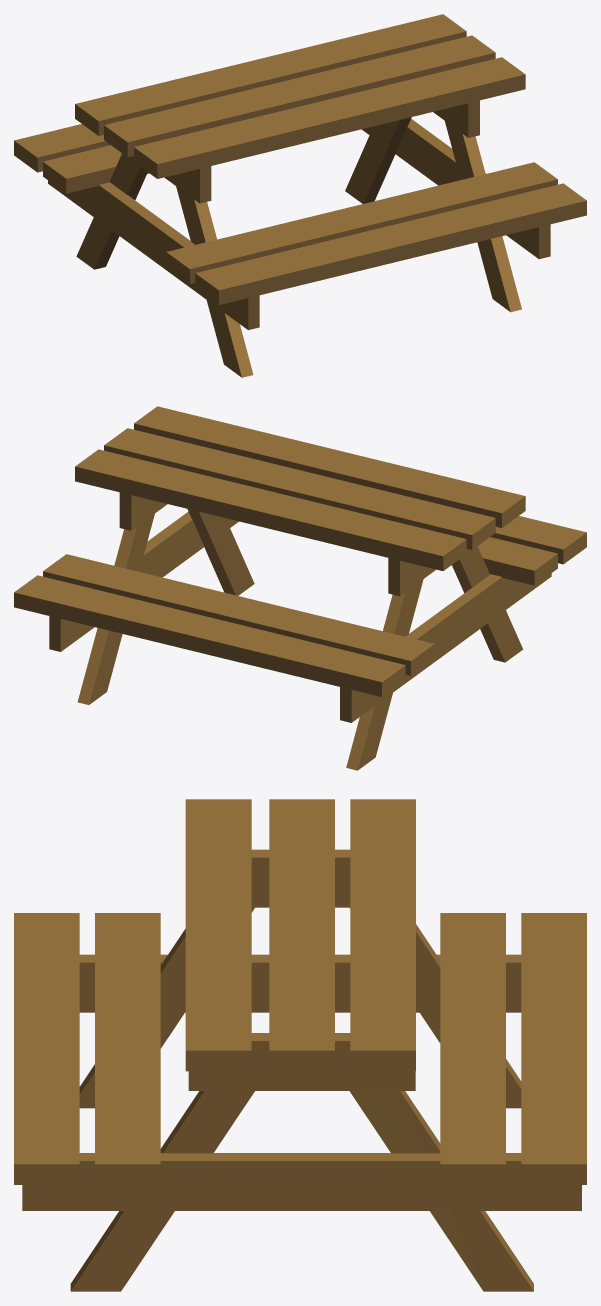
Rendered from SM_Park_bench_01.fbx.
3 views of the same model, one above another, from view 1: azimuth 30°, elevation 25°; view 2: azimuth 150°, elevation 25°; view 3: azimuth 270°, elevation 25° (orthographic). The views are drawn at different scales.
Parts seen in each view (by area): view 1: SM_Park_bench_01; view 2: SM_Park_bench_01; view 3: SM_Park_bench_01.
Boxes of the visible parts, x1=… form: SM_Park_bench_01: x1=14, y1=14, x2=586, y2=377; SM_Park_bench_01: x1=14, y1=406, x2=586, y2=770; SM_Park_bench_01: x1=14, y1=799, x2=586, y2=1291.
Bounding box in the file's own units: 3.07 × 1.55 × 2.96.
